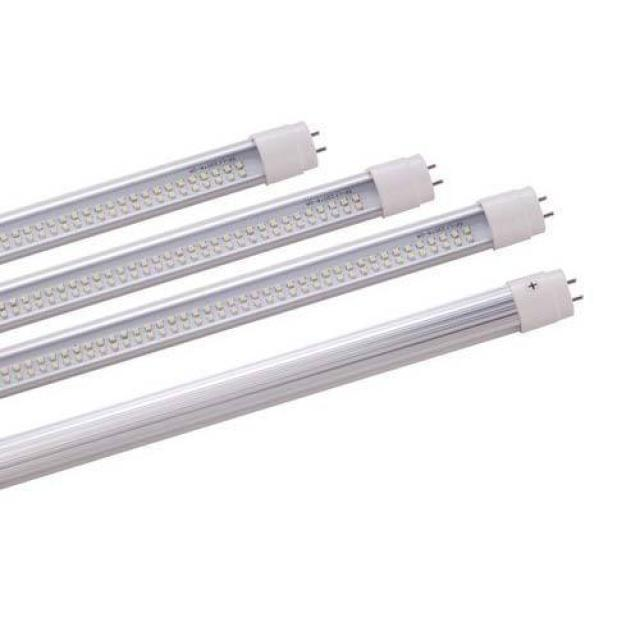tubelight_off: (1, 182, 555, 400), (2, 151, 445, 337), (0, 118, 320, 265)
